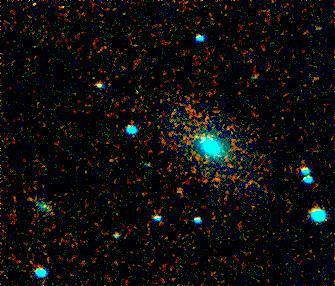star: (181, 118, 211, 148)
